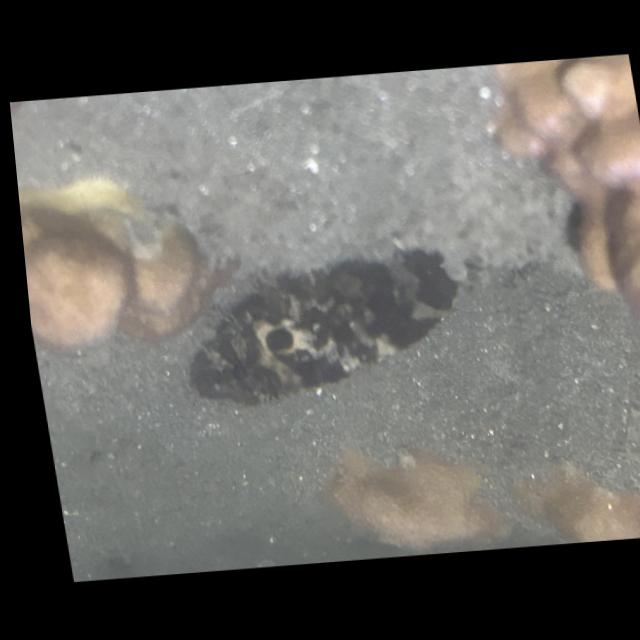Groupers: (167, 240, 481, 409)
